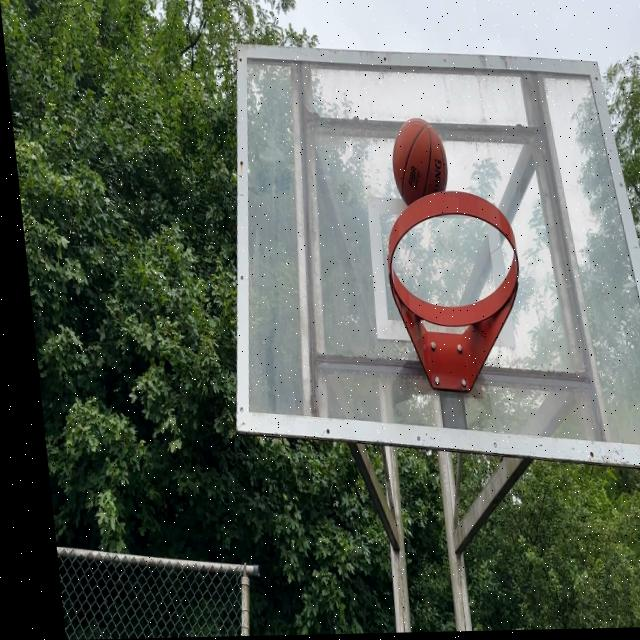rebound_hit: (388, 117, 453, 215)
